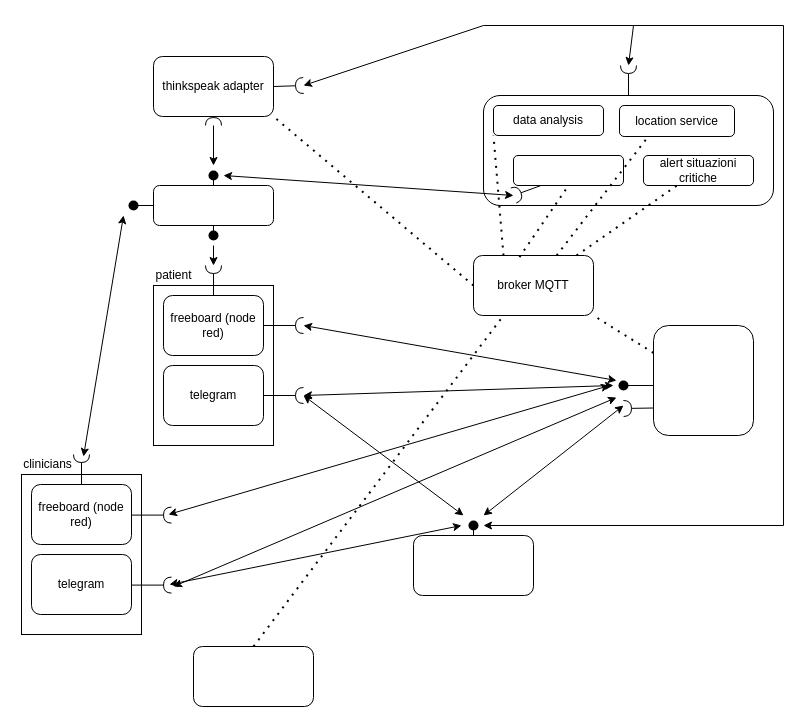
The diagram is 810 pixels wide and 724 high, and some of its shapes have lost their labels. Each missing label, with the centre of its shape:
catalog: point (473, 565)
client clinica: point (253, 676)
database: point (568, 170)
device connector (Raspberry): point (703, 380)
thinkspeak: point (213, 205)
